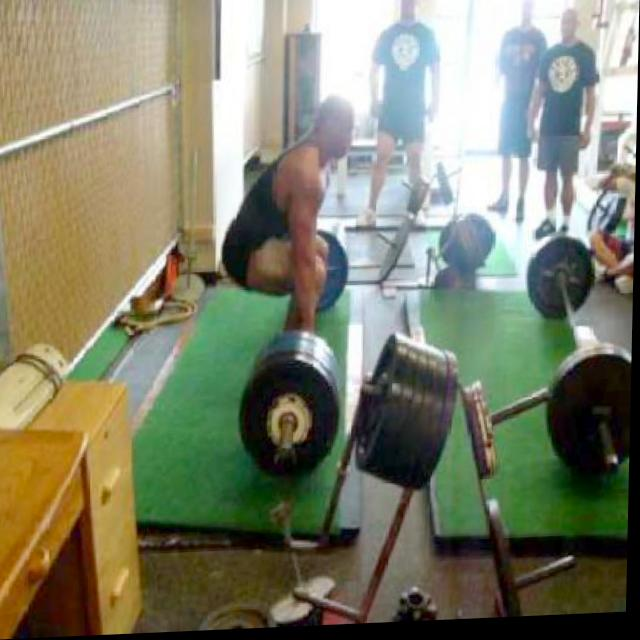barbell: (238, 352, 344, 497)
